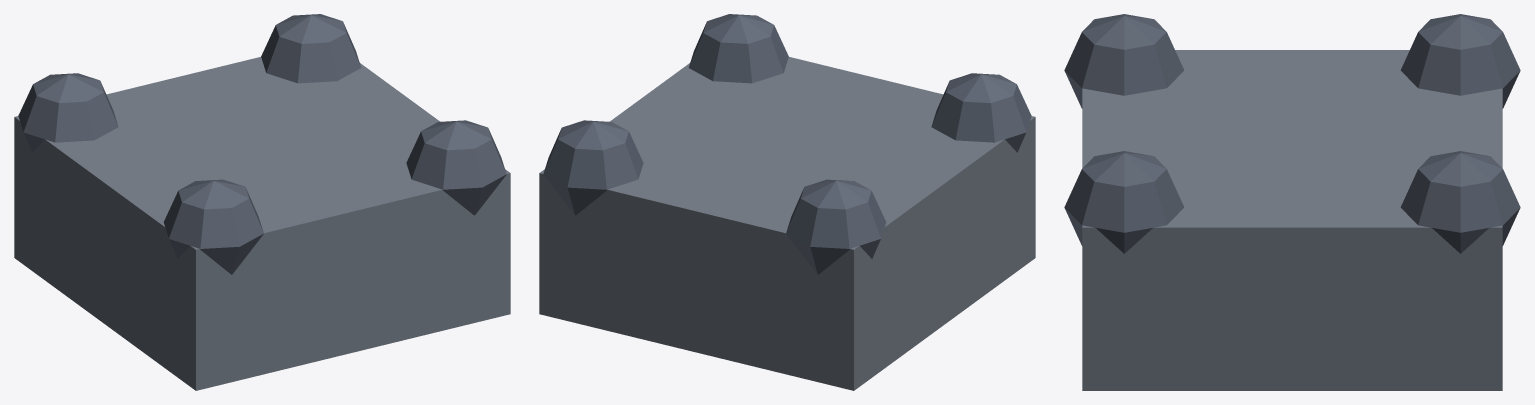
File: carro_grua.glb
The picture shows the model from 3 angles, left to right: view 1: azimuth 30°, elevation 25°; view 2: azimuth 150°, elevation 25°; view 3: azimuth 270°, elevation 25°; orthographic projection. The views are drawn at different scales.
Parts seen in each view (by area): view 1: carro_grua; view 2: carro_grua; view 3: carro_grua.
Part boxes in pixels (x1,y1,x2,y2): carro_grua: [14, 14, 510, 390]; carro_grua: [539, 14, 1035, 390]; carro_grua: [1064, 14, 1520, 390].
Size of the model in its own units: 0.74 by 0.47 by 0.76.
